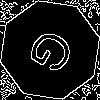G: (25, 25, 85, 83)
